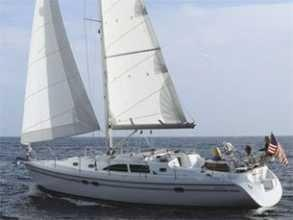fanchuan: (22, 1, 284, 210)
